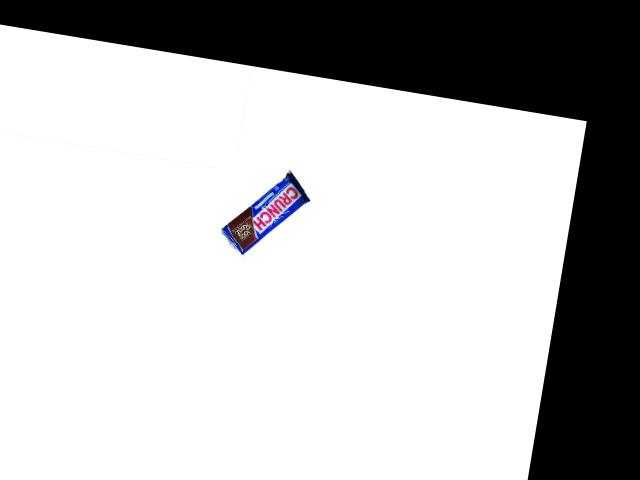chocolate: (215, 159, 315, 266)
